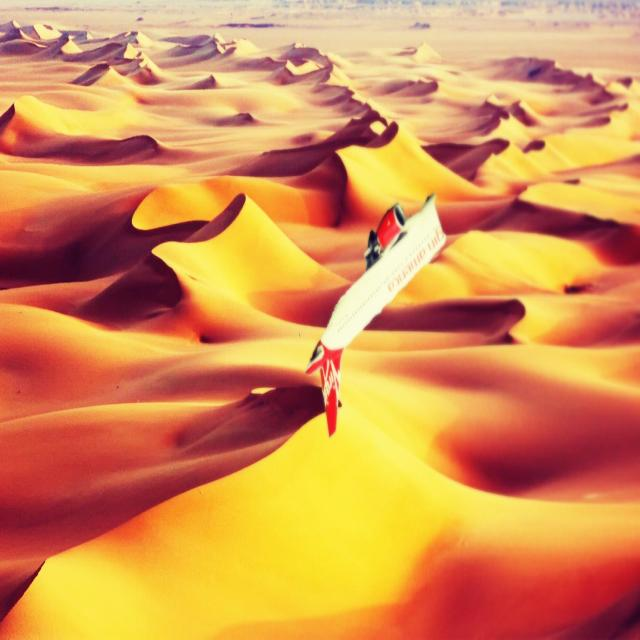airplane: (304, 190, 446, 442)
